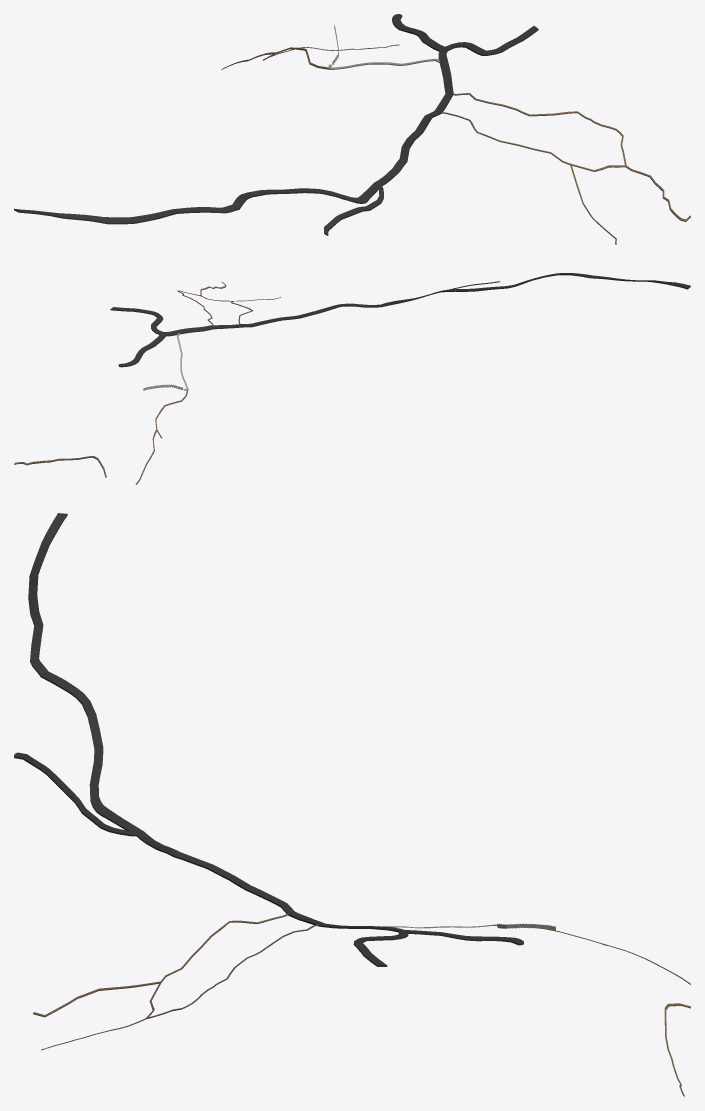
The picture shows the model from 3 angles, top to bottom: view 1: azimuth 30°, elevation 25°; view 2: azimuth 150°, elevation 25°; view 3: azimuth 270°, elevation 25°; orthographic projection. The views are drawn at different scales.
Size of the model in its own units: 587 by 173 by 470.
